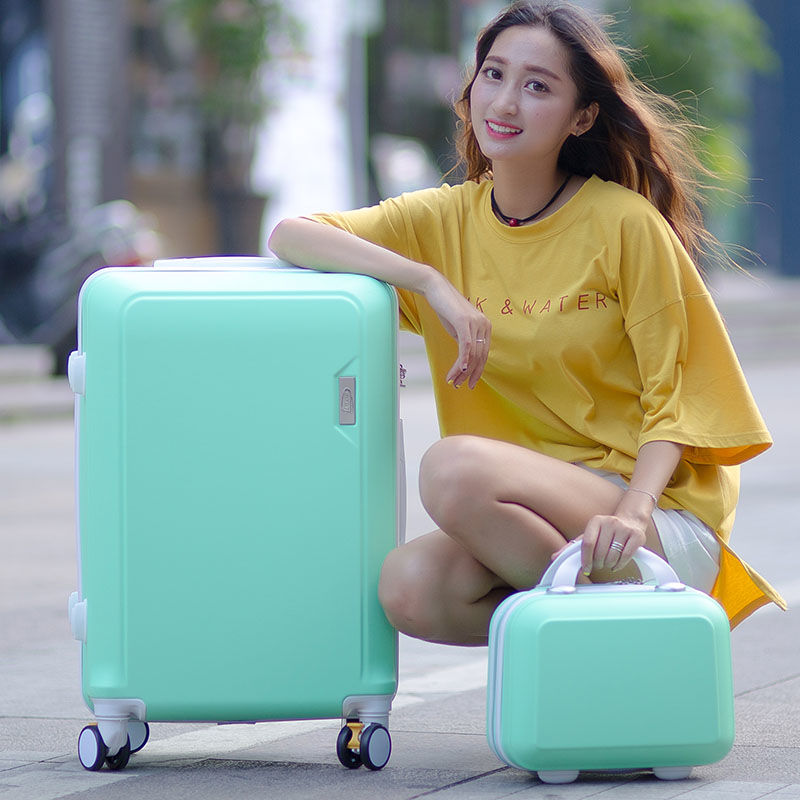box: (76, 266, 399, 721)
wheel: (336, 721, 392, 771), (76, 724, 131, 773), (121, 717, 150, 753)
